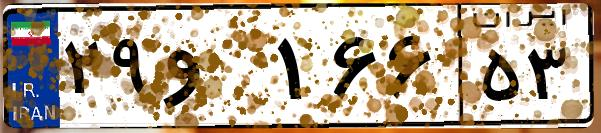1: (270, 28, 330, 110)
2: (57, 26, 110, 100)
3: (525, 38, 570, 115)
5: (475, 38, 525, 113)
6: (385, 28, 445, 110), (330, 28, 385, 110)
9: (110, 28, 158, 98)
و: (158, 20, 270, 120)
